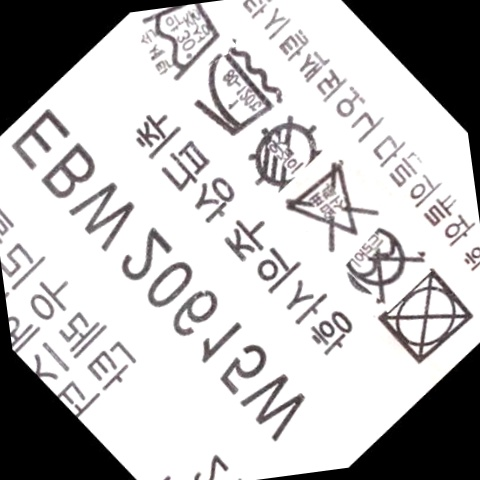DN_dry_clean: (338, 222, 419, 295)
DN_tumble_dry: (377, 268, 475, 366)
hand_wash: (136, 3, 222, 83)
iron_low: (193, 44, 272, 142)
line_dry_in_shade: (242, 110, 331, 190)
non_chlorine_bleach: (289, 166, 371, 251)
